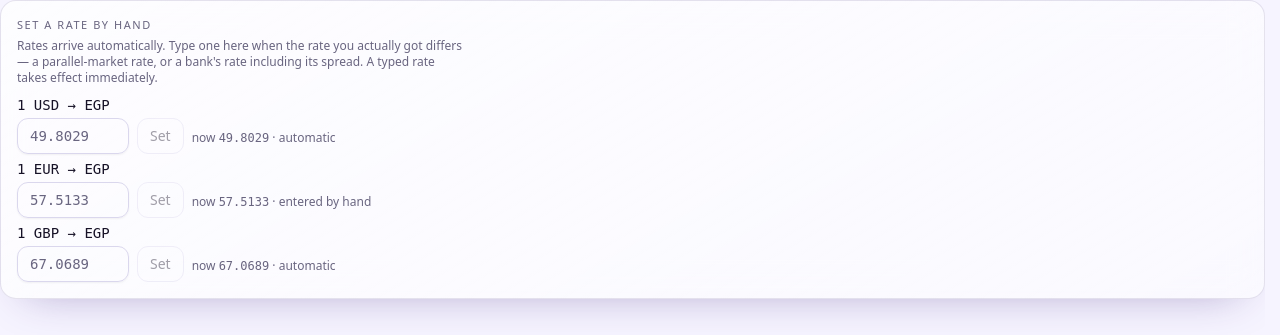
Test: saving a rate › confirms the save and clears the box, so it is not saved twice
Type "52.5" into the field labelled "1 USD → EGP".
click(73, 136); type("52.5")  # box [17,118,129,154]
Then press Enter
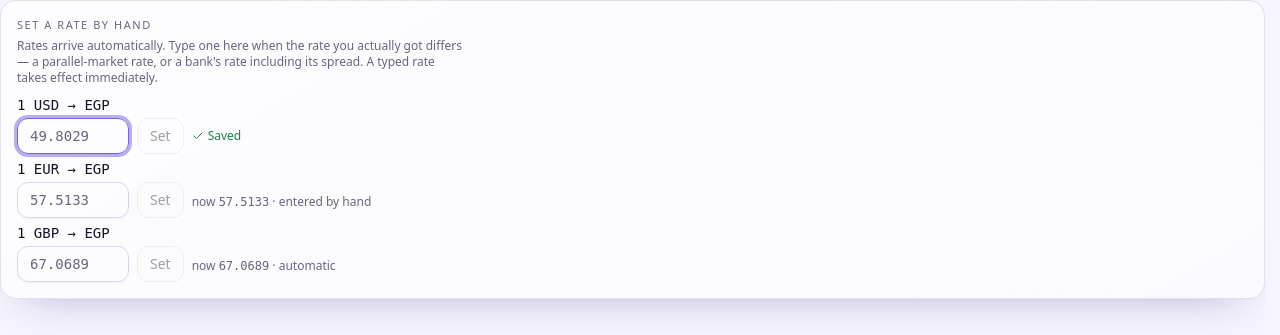
Now the text "Saved" is shown, box [192,128,241,144]
